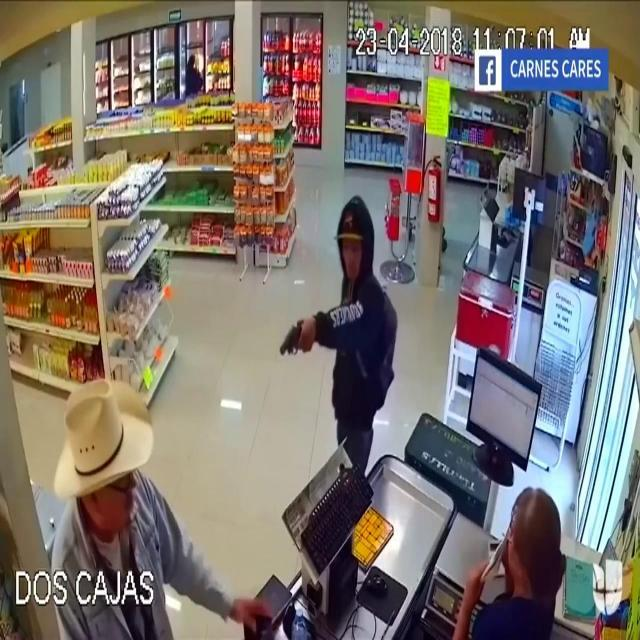weapon: (268, 304, 314, 376)
